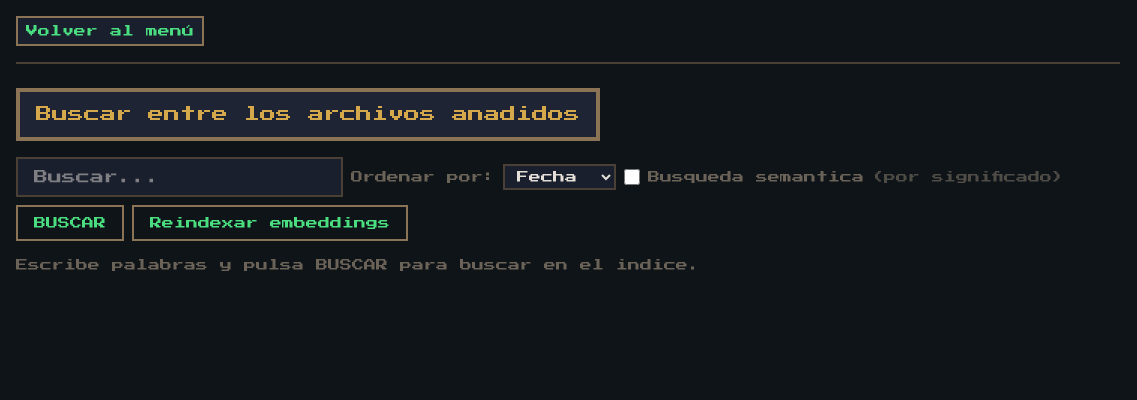
Search › muestra empty state cuando no hay resultados tras buscar
Click the button "BUSCAR".
click(70, 223)  # box [16, 205, 124, 241]
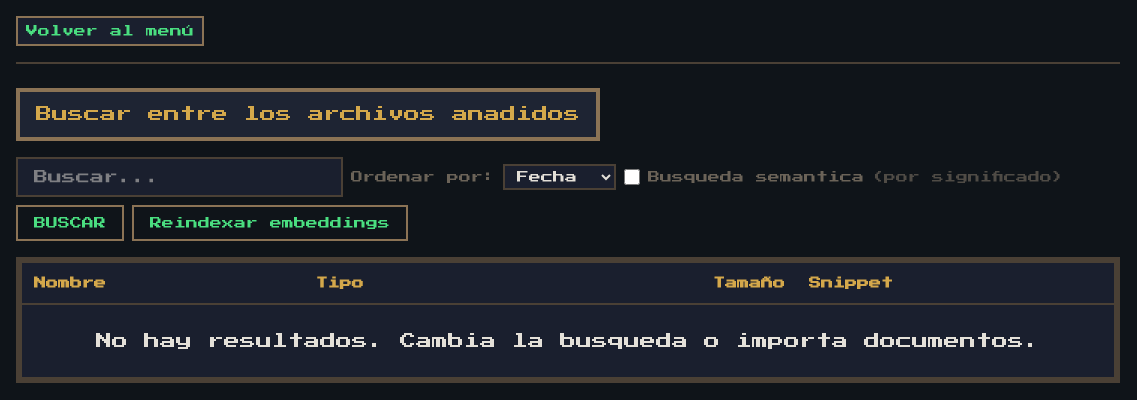
Expected: the text "No hay resultados. Cambia la busqueda o importa documentos." is shown, [96, 333, 1040, 349]
